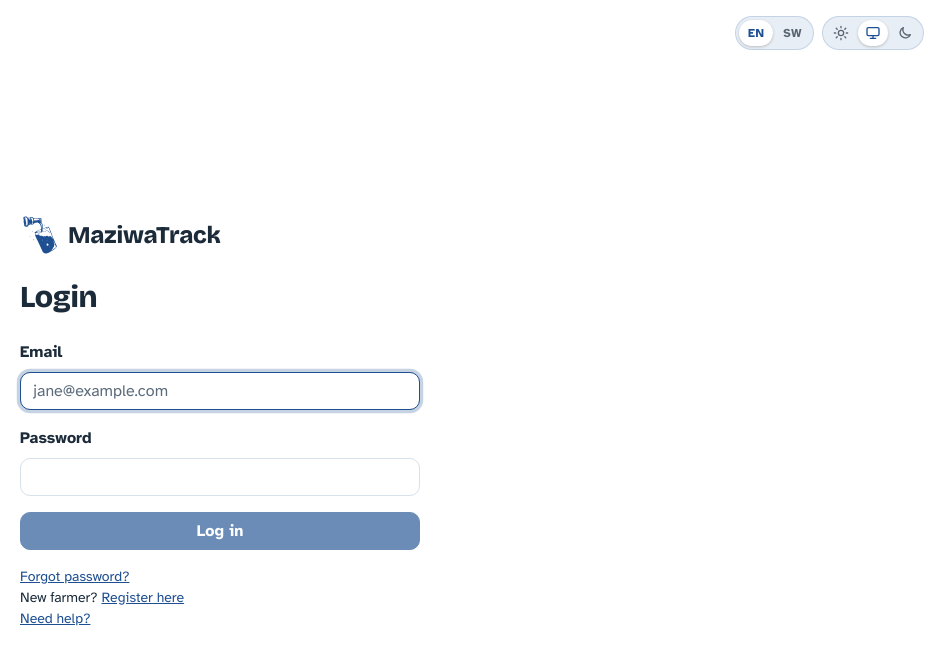
Scenario: Login › A5: when the server says to log in again, goes back to the password step
In the field labelled "Email": (220, 391) 20,372 -> 420,410, type "wanjiku@example.com"
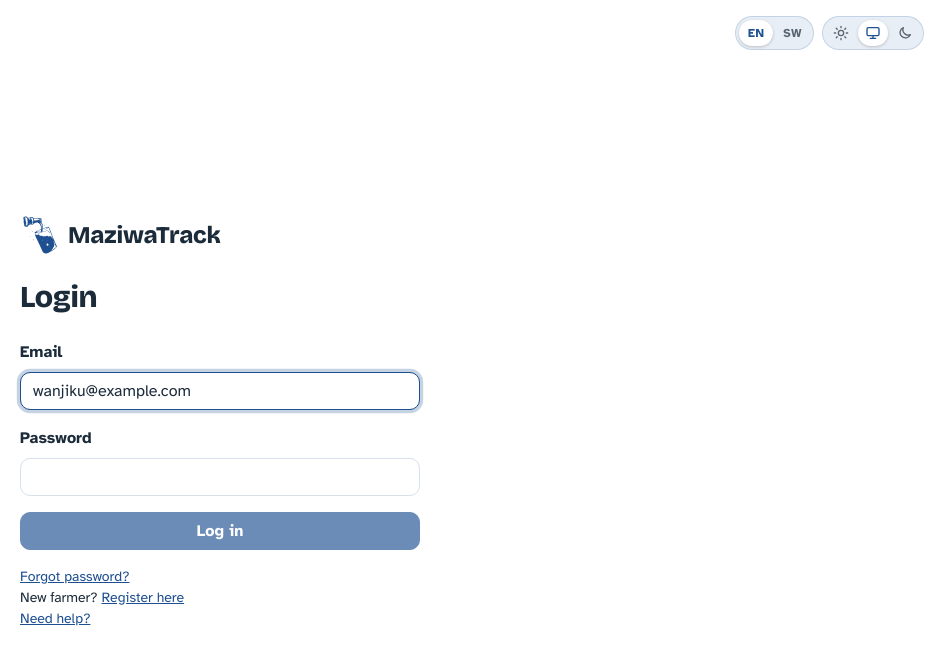
In the password field labelled "Password": (220, 477) 20,458 -> 420,496, type "Password123"
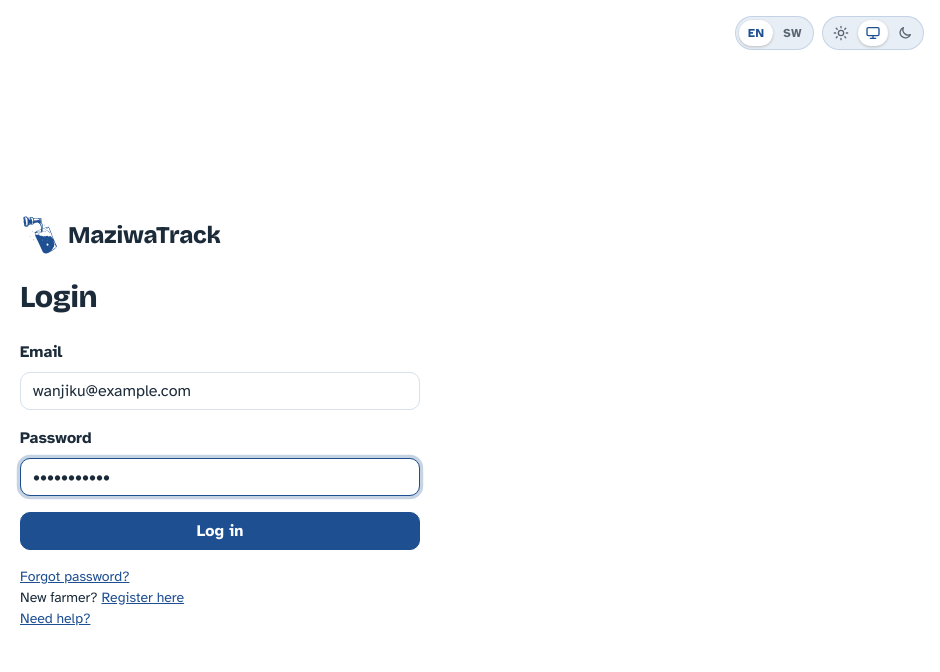
Click the button "Log in": click(220, 531) 20,512 -> 420,550
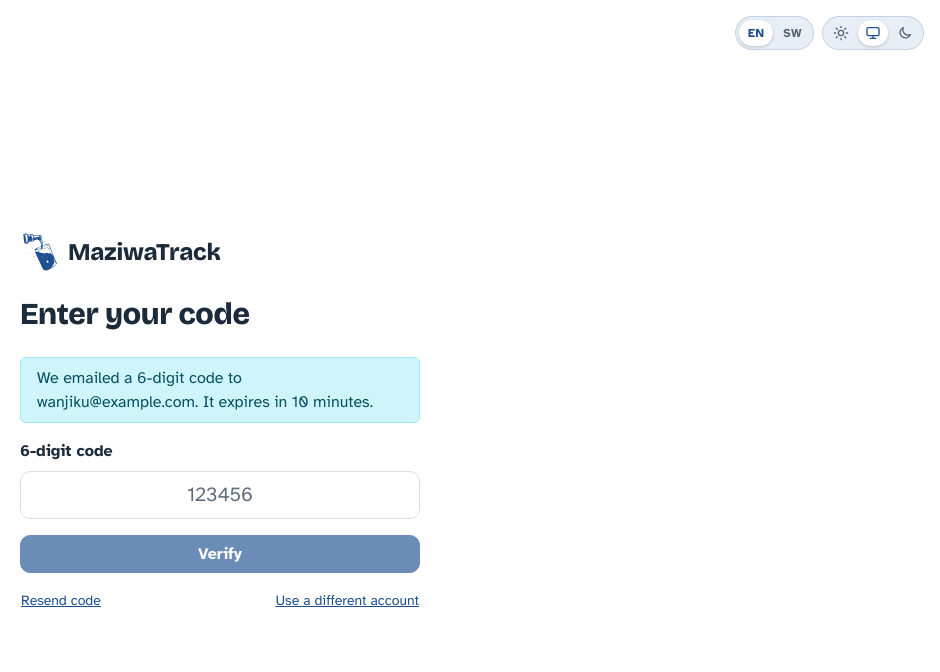
In the field labelled "6-digit code": (220, 495) 20,471 -> 420,519, type "000000"
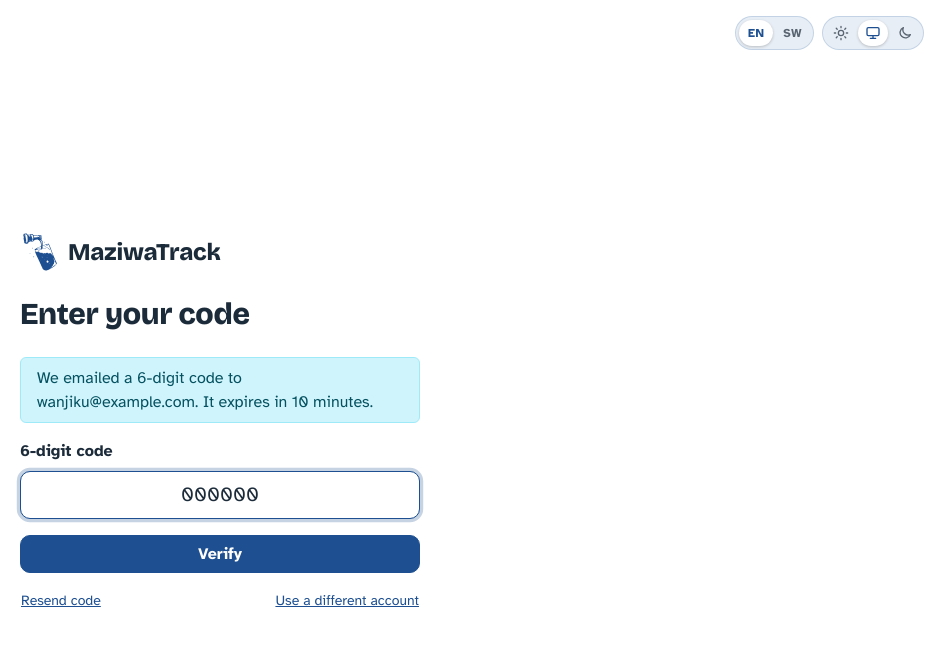
Click the button "Verify": click(220, 554) 20,535 -> 420,573
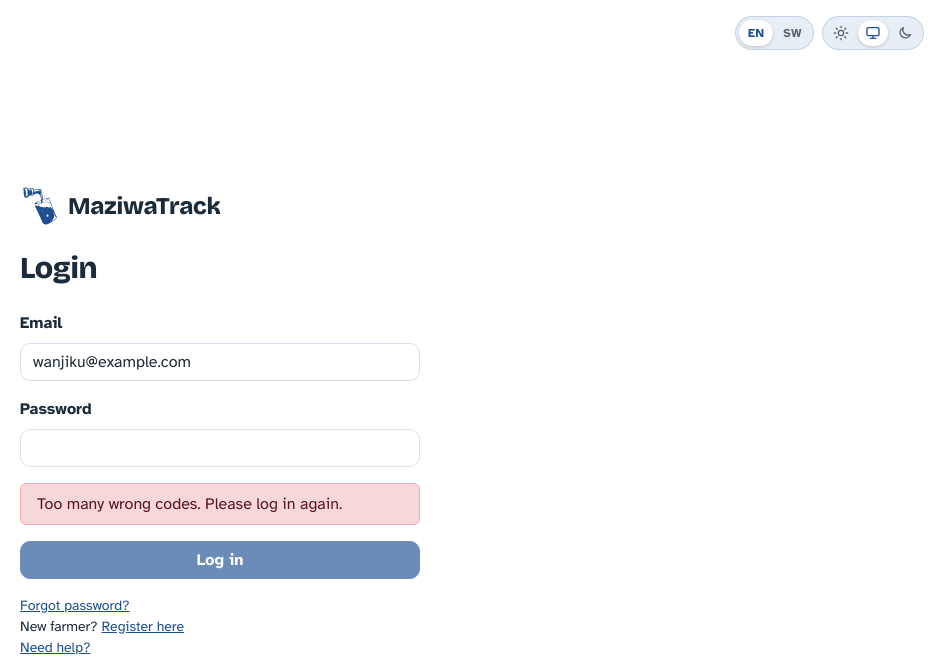
Check: the heading "Login" is shown, box 20,250 -> 97,286
Check: the text "Too many wrong codes. Please log in again." is shown, box 20,483 -> 420,525
